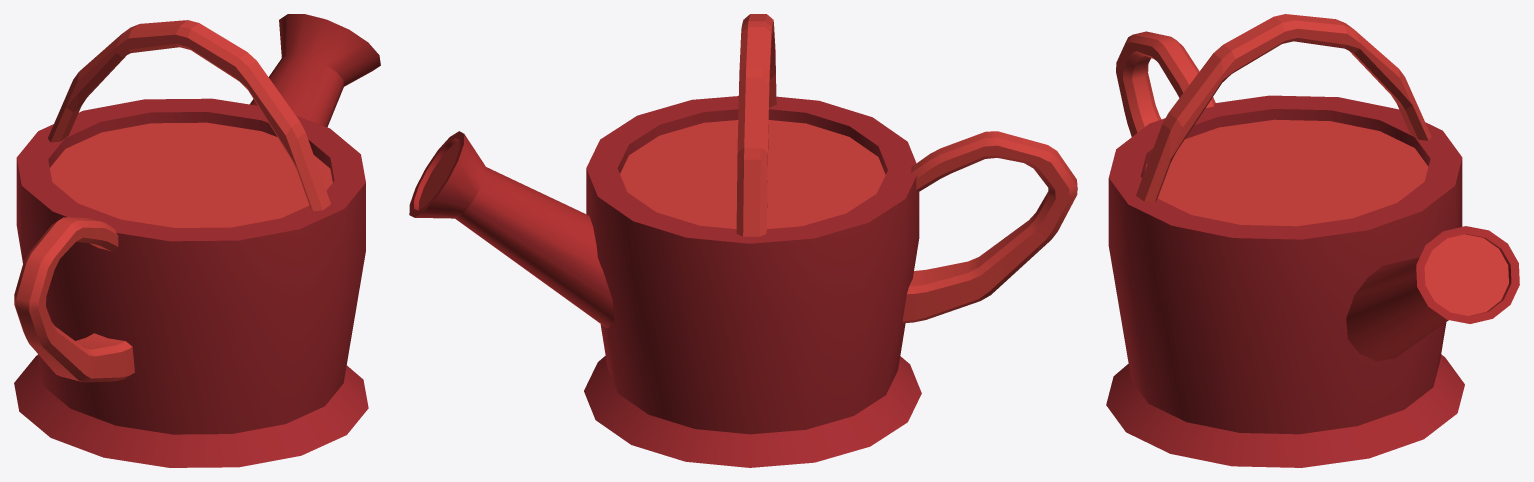
Rendered from regador.fbx.
3 views of the same model, side by side, from view 1: azimuth 30°, elevation 25°; view 2: azimuth 150°, elevation 25°; view 3: azimuth 270°, elevation 25° (orthographic).
Visible parts, largest first — view 1: Circle.007; view 2: Circle.007; view 3: Circle.007.
Part boxes in pixels (x1,y1,x2,y2): Circle.007: (14, 14, 380, 467); Circle.007: (409, 14, 1077, 467); Circle.007: (1106, 14, 1519, 467).
Bounding box in the file's own units: 1.36 × 0.9461 × 0.946.
